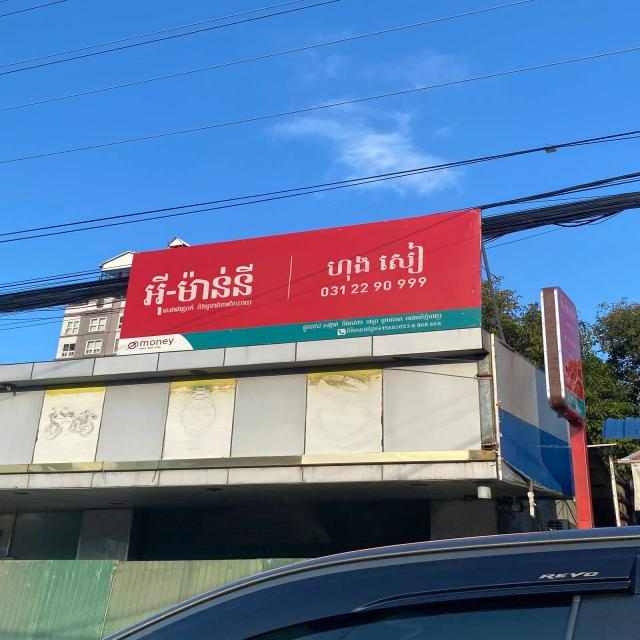1: (319, 233, 436, 285)
338: (315, 276, 431, 300)
Yolov11kh: (136, 259, 263, 322)
